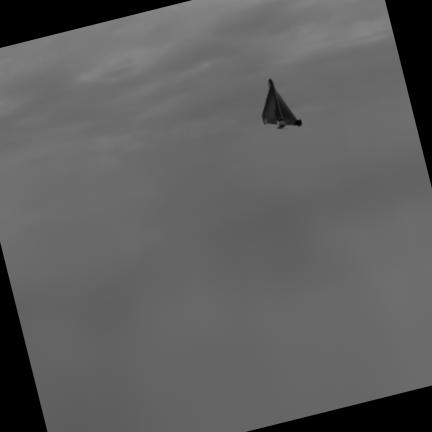Shahed: (262, 78, 301, 128)
